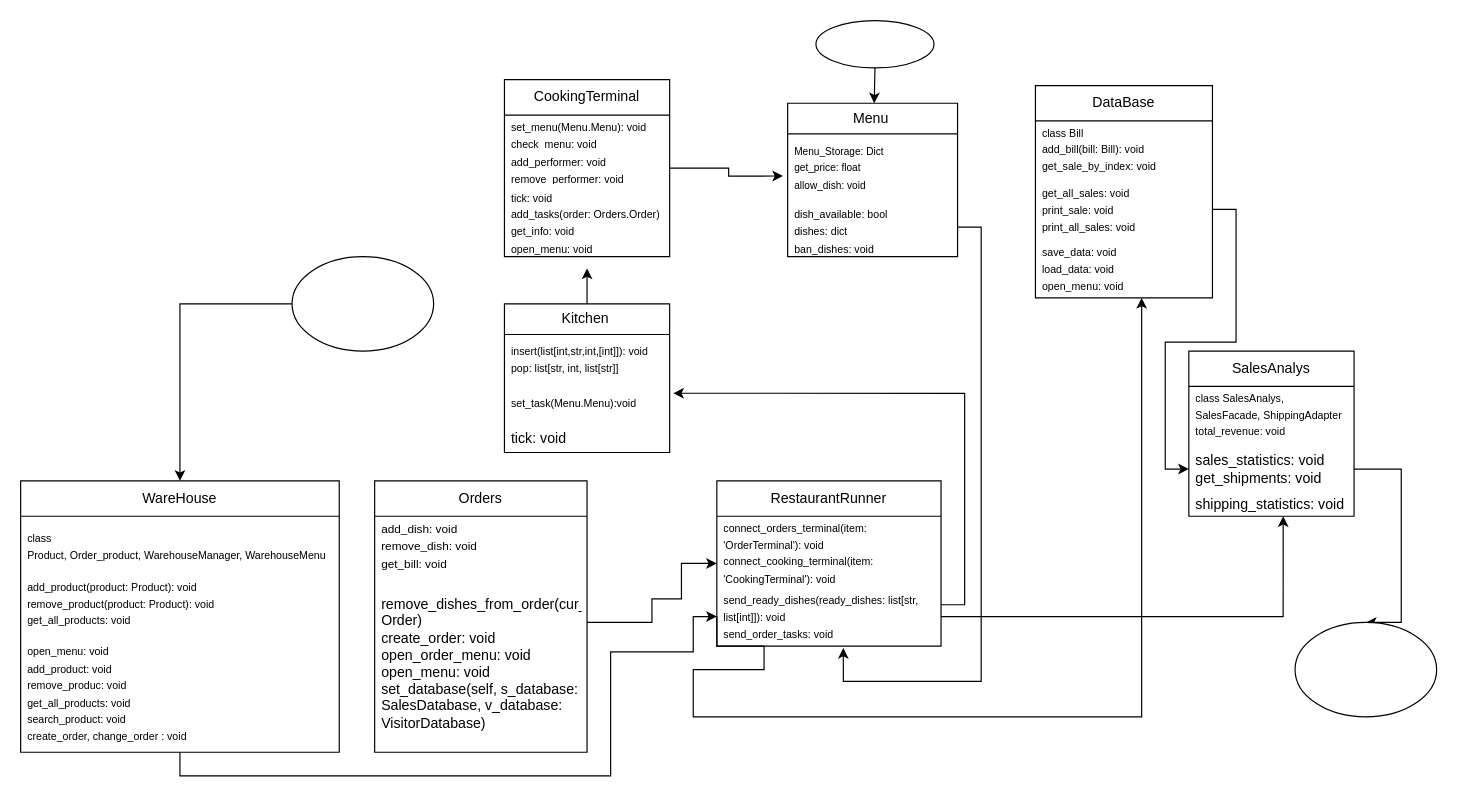
The diagram is 1457 pixels wide and 806 high, and some of its shapes have lost their labels. The shapes that lost their labels are listed below. From the top down, each one's centre as x and y in pixels, then its label:
the point at 874,43: MenuFile
the point at 362,303: WarehouseProducts
the point at 1365,669: SalesData
